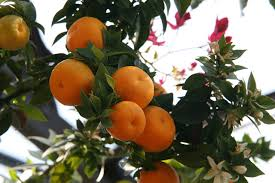orange: (49, 58, 97, 108), (107, 65, 154, 108), (64, 17, 109, 58), (138, 106, 177, 153), (105, 102, 147, 142)
